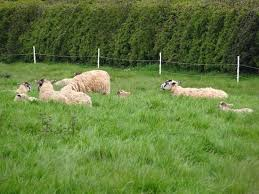sheep: (37, 76, 100, 114), (55, 68, 116, 100), (158, 77, 229, 103), (215, 97, 258, 120), (16, 81, 40, 106)
